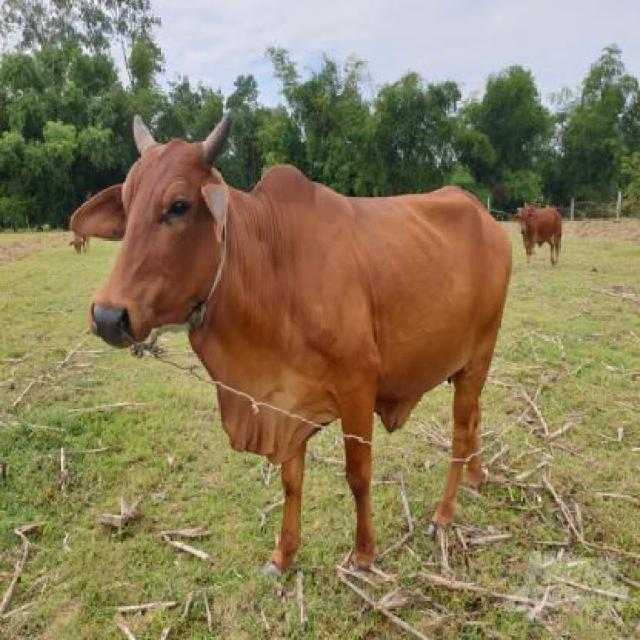Cow: (66, 103, 511, 571), (516, 203, 566, 266)
